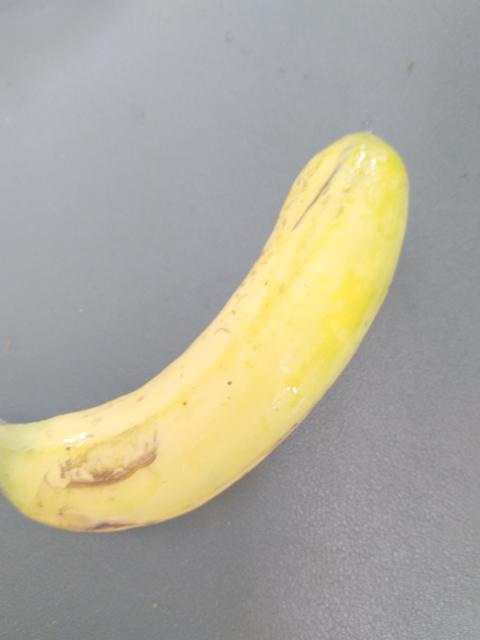ripe: (0, 103, 420, 538)
